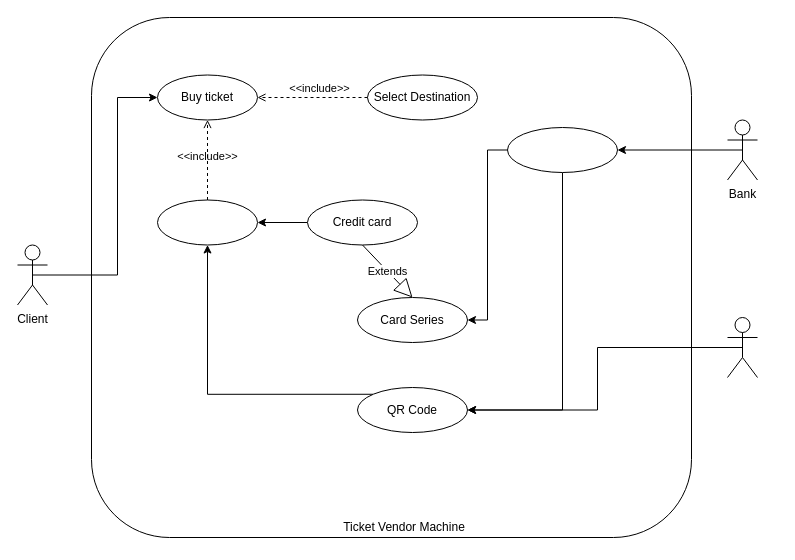
The diagram is 795 pixels wide and 560 high, and some of its shapes have lost their labels. Here are the shapes that lost their labels. From the top down, the centre of each, then its label:
the point at 562,149: Banking System
the point at 207,222: Select payment
the point at 742,347: Digital Wallet
